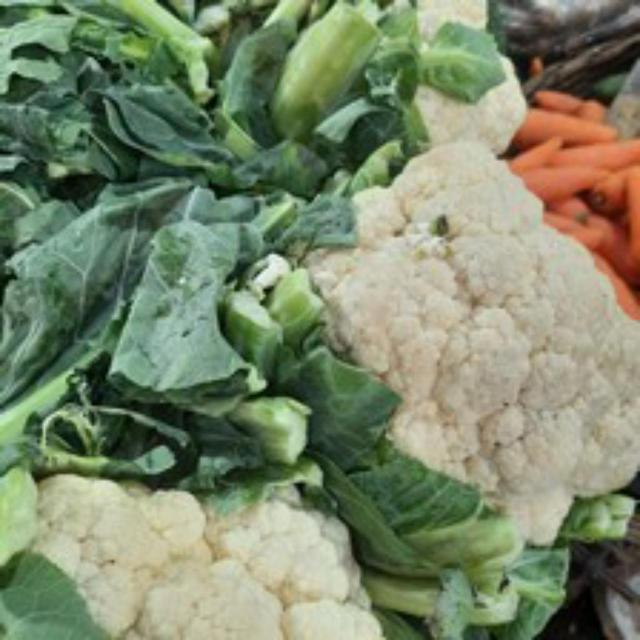cauliflower: (256, 130, 640, 567)
